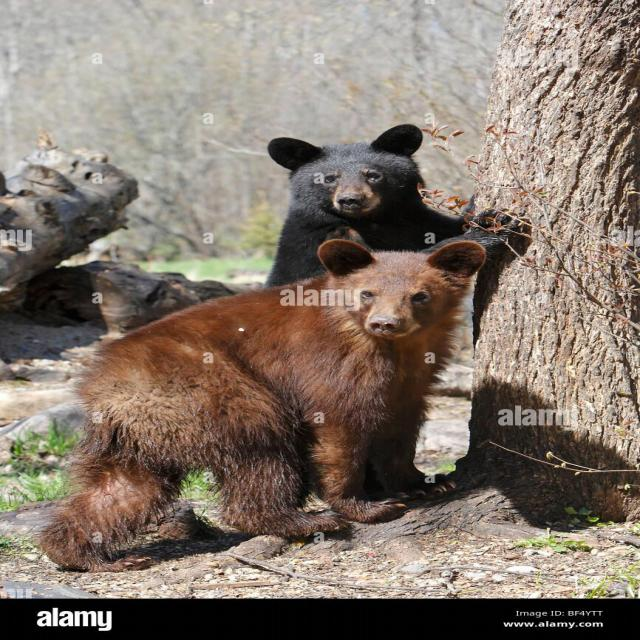Bear: (38, 239, 501, 575), (265, 126, 468, 288)
